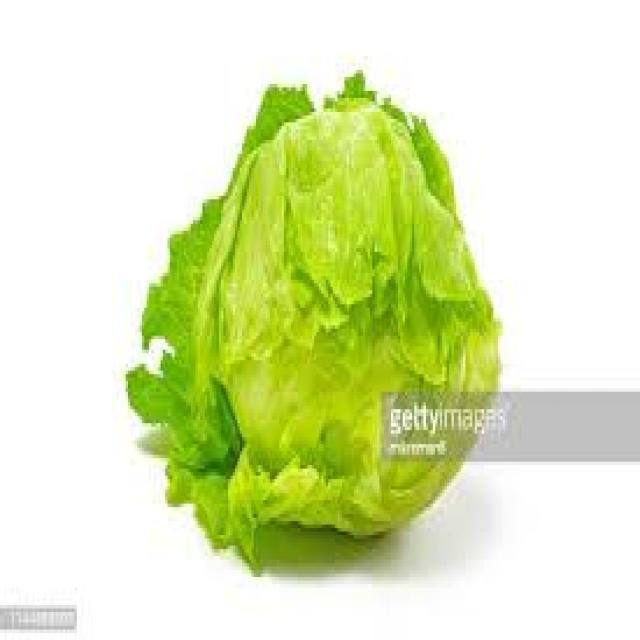Lettuce: (126, 72, 502, 572)
